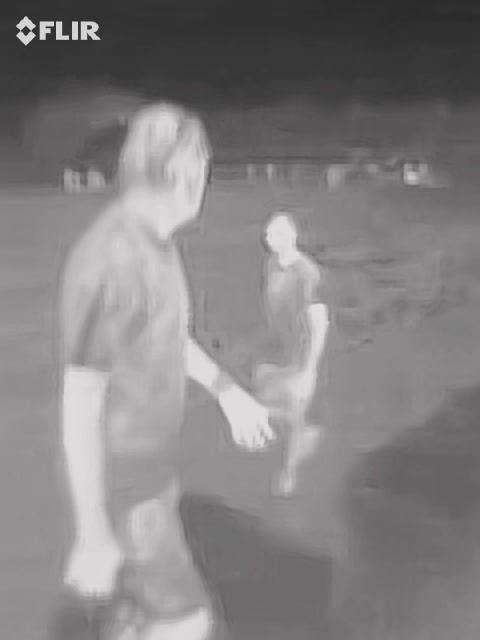head: (119, 97, 220, 238)
